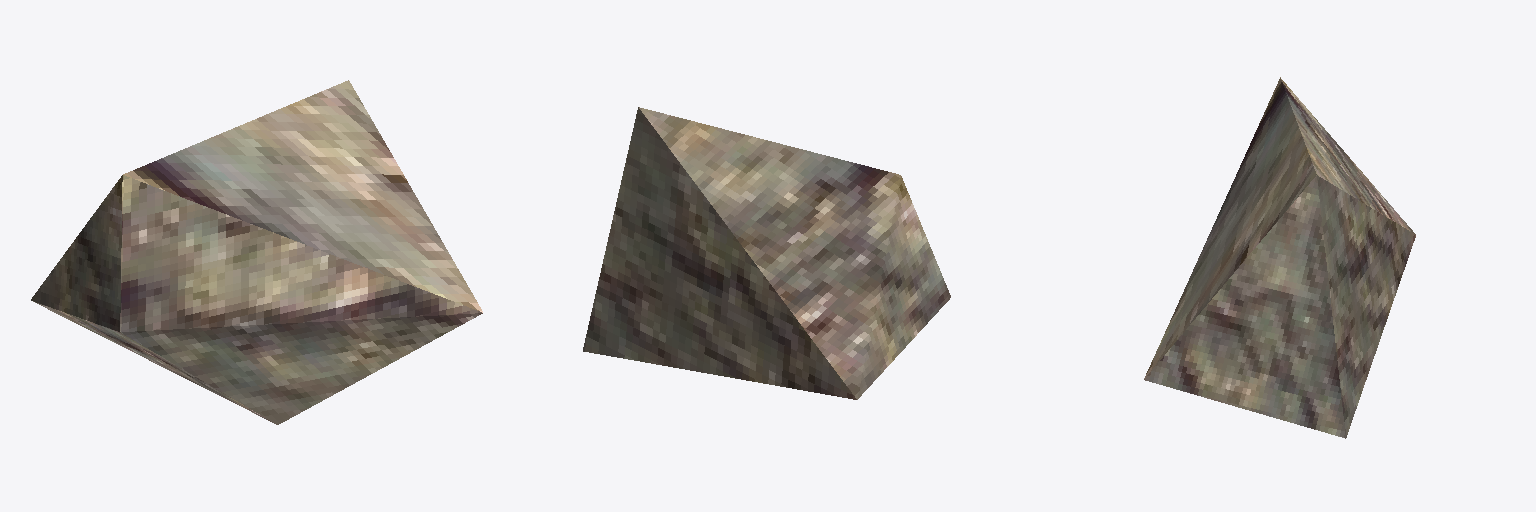
3 views of the same model, side by side, from view 1: azimuth 30°, elevation 25°; view 2: azimuth 150°, elevation 25°; view 3: azimuth 270°, elevation 25° (orthographic).
Visible parts, largest first — view 1: Cube.006; view 2: Cube.006; view 3: Cube.006.
Boxes of the visible parts, x1=… form: Cube.006: x1=31, y1=80, x2=482, y2=424; Cube.006: x1=583, y1=107, x2=950, y2=399; Cube.006: x1=1144, y1=77, x2=1415, y2=438.
Size of the model in its own units: 0.0446 by 0.0361 by 0.033.
1 materials, 1 textured.